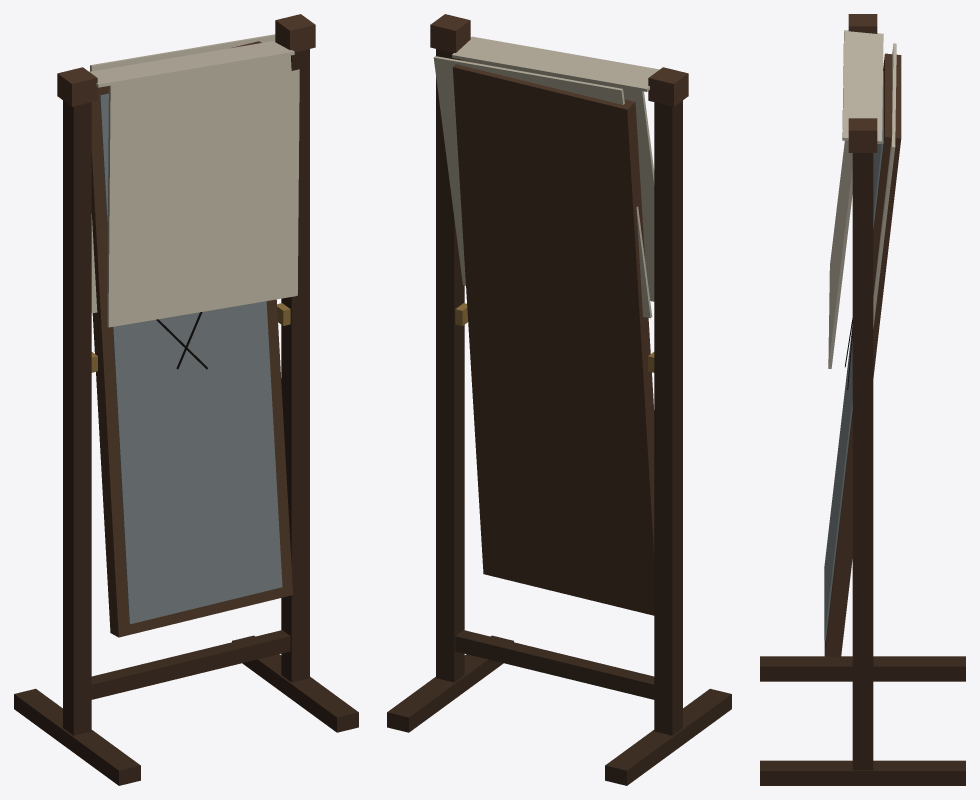
The model's file is covered_mirror.glb.
3 renders of one model, left to right at view 1: azimuth 30°, elevation 25°; view 2: azimuth 150°, elevation 25°; view 3: azimuth 270°, elevation 25°, orthographic.
Visible parts, largest first — view 1: covered_mirror; view 2: covered_mirror; view 3: covered_mirror.
Part boxes in pixels (left/top/right/bottom): covered_mirror: left=14, top=14, right=358, bottom=785; covered_mirror: left=387, top=14, right=731, bottom=785; covered_mirror: left=760, top=14, right=965, bottom=785.
Size of the model in its own units: 0.67 by 1.76 by 0.5.
